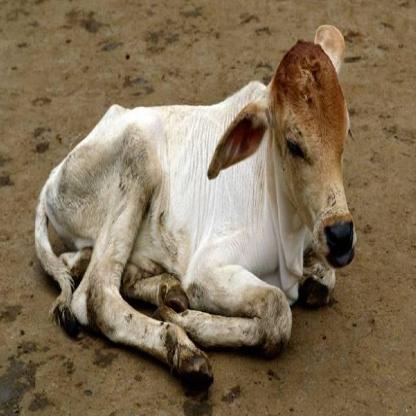cow: (46, 28, 355, 395)
